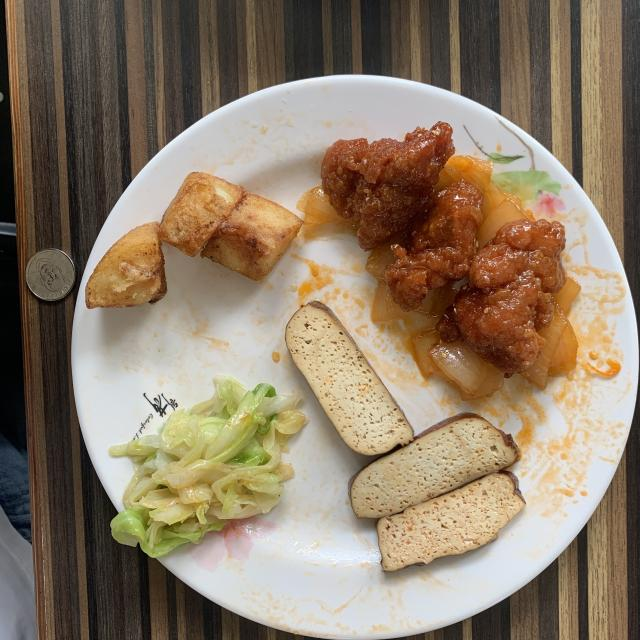cabbage: (109, 376, 306, 558)
coin: (25, 249, 75, 301)
firm tofu: (285, 301, 525, 571)
fried potato: (85, 172, 302, 309)
